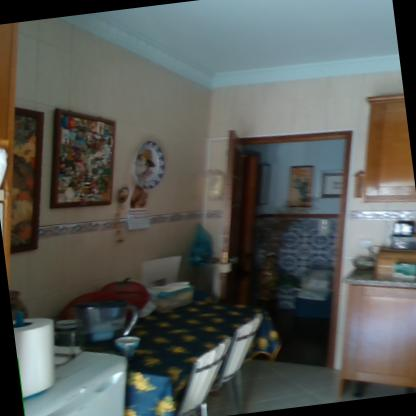open: (198, 113, 392, 387)
